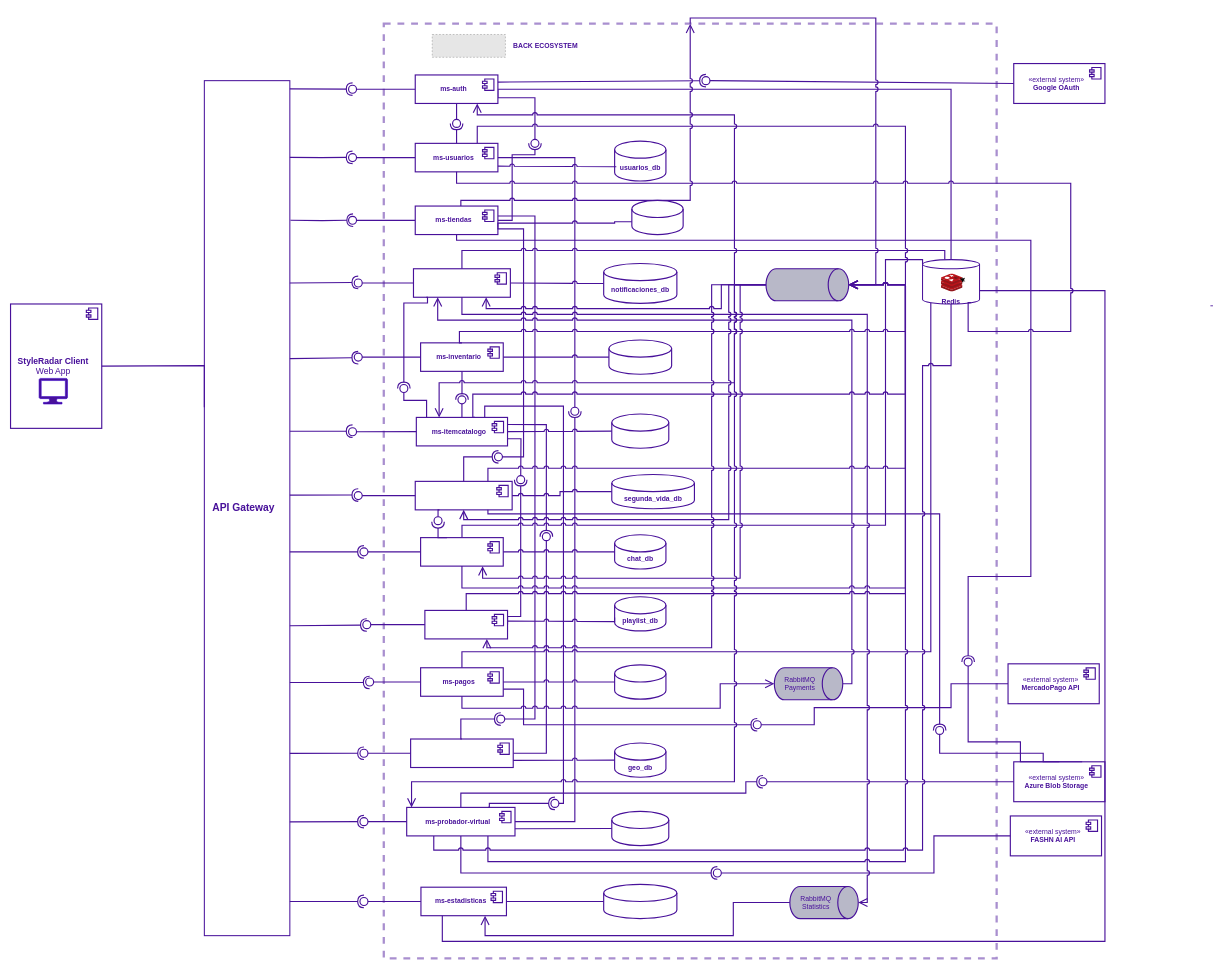
The diagram is 1224 pixels wide and 969 high, and some of its shapes have lost their labels. Grey dashed boxes stand in for pictures. Each missing label, with the centre of its shape:
"catalogo_db" belongs at (640,431).
"estadisticas_db" belongs at (640,901).
"inventario_db" belongs at (640,356).
"ms-chat" belongs at (462,551).
"ms-geolocalizacion" belongs at (462,753).
"ms-notificaciones" belongs at (462,283).
"ms-playlist" belongs at (466,624).
"ms-segunda-vida" belongs at (463,495).
"pagos_db" belongs at (640,681).
"probador_db" belongs at (640,828).
"RabbitMQ Notifications" belongs at (807,284).
"tiendas_db" belongs at (657,217).
